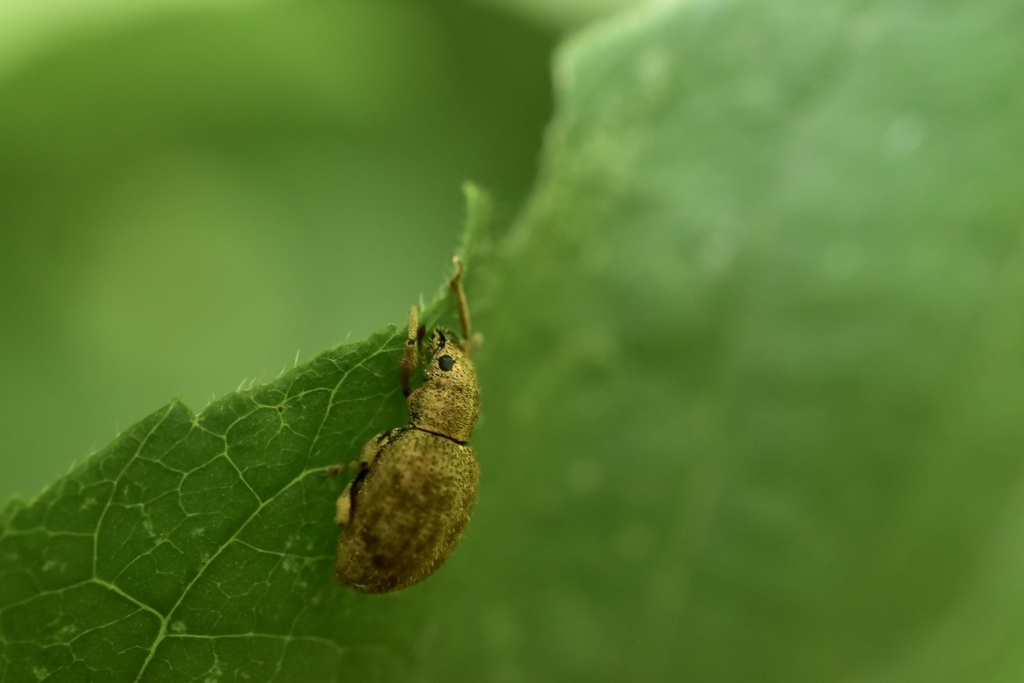weevils: (260, 172, 592, 655)
